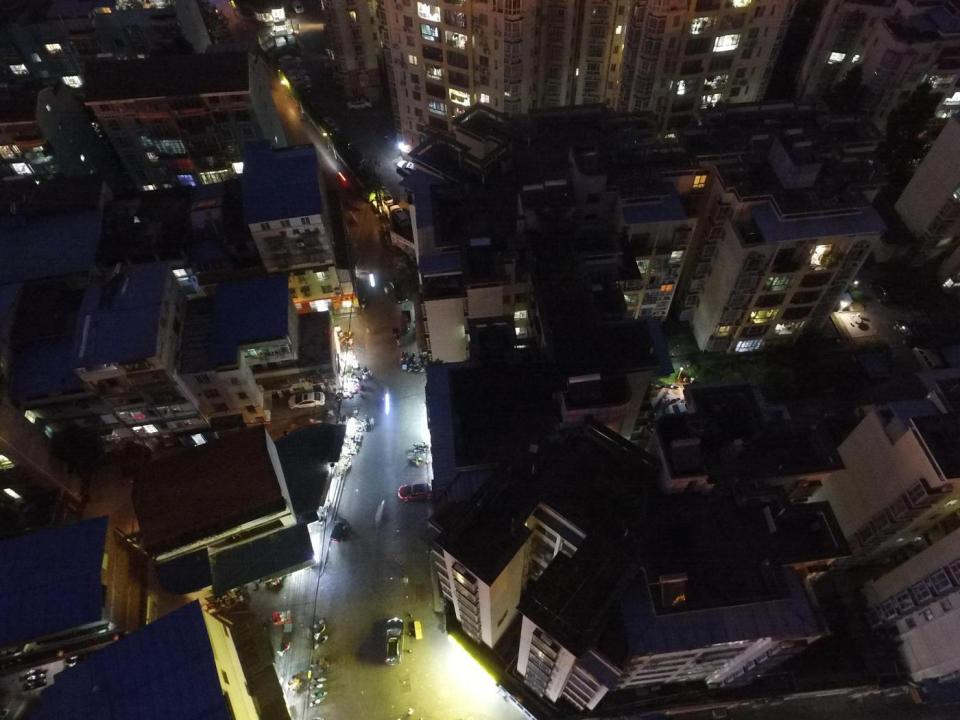car: (384, 616, 404, 666), (399, 482, 435, 500), (288, 391, 326, 408), (388, 280, 412, 306), (388, 203, 408, 230), (396, 159, 424, 176), (375, 185, 393, 207), (347, 98, 372, 111), (281, 61, 303, 74), (287, 76, 311, 86), (278, 53, 300, 63), (324, 117, 339, 131), (290, 0, 305, 14), (286, 68, 306, 77)
van: (333, 517, 347, 542)
